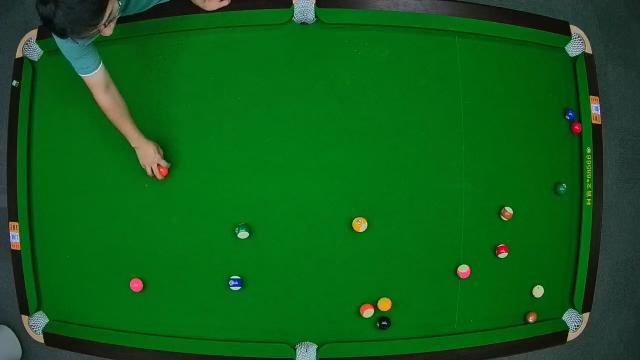bag1: (20, 40, 40, 61)
bag2: (292, 1, 316, 25)
bag3: (566, 35, 588, 55)
bag4: (28, 311, 48, 333)
bag5: (293, 340, 319, 360)
bag6: (562, 308, 582, 332)
ball0: (532, 285, 544, 299)
ball1: (378, 298, 392, 312)
ball10: (228, 274, 244, 292)
ball11: (495, 243, 509, 258)
ball12: (457, 264, 471, 280)
ball13: (359, 302, 375, 318)
ball14: (234, 224, 252, 240)
ball15: (500, 206, 514, 222)
ball2: (565, 112, 579, 124)
ball3: (570, 122, 582, 134)
ball4: (130, 278, 144, 294)
ball6: (554, 182, 568, 197)
ball7: (524, 311, 538, 325)
ball8: (376, 316, 392, 330)
ball9: (352, 217, 368, 233)
